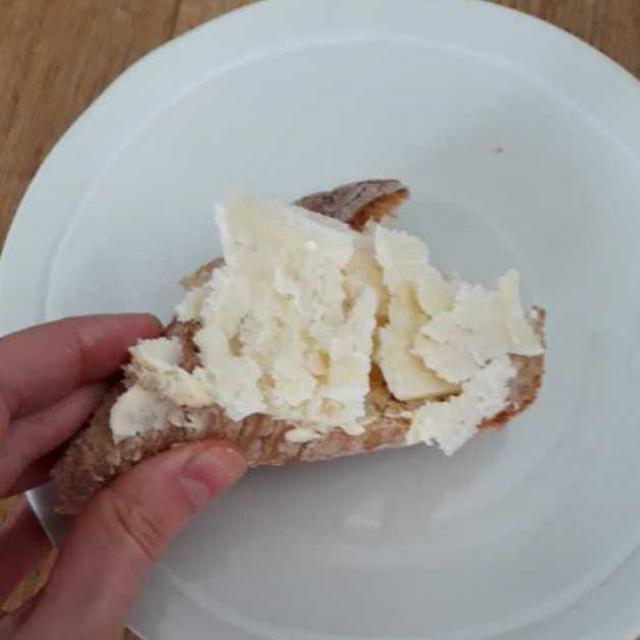cheese: (113, 187, 549, 448)
